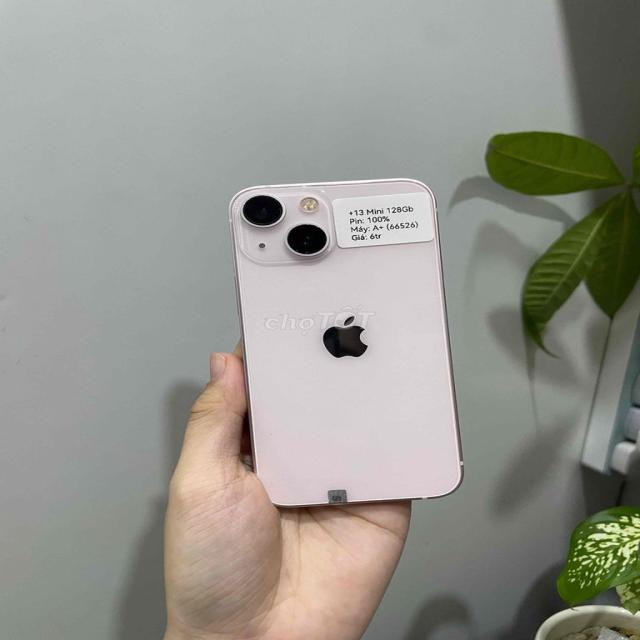gen_12_13: (227, 173, 465, 509)
